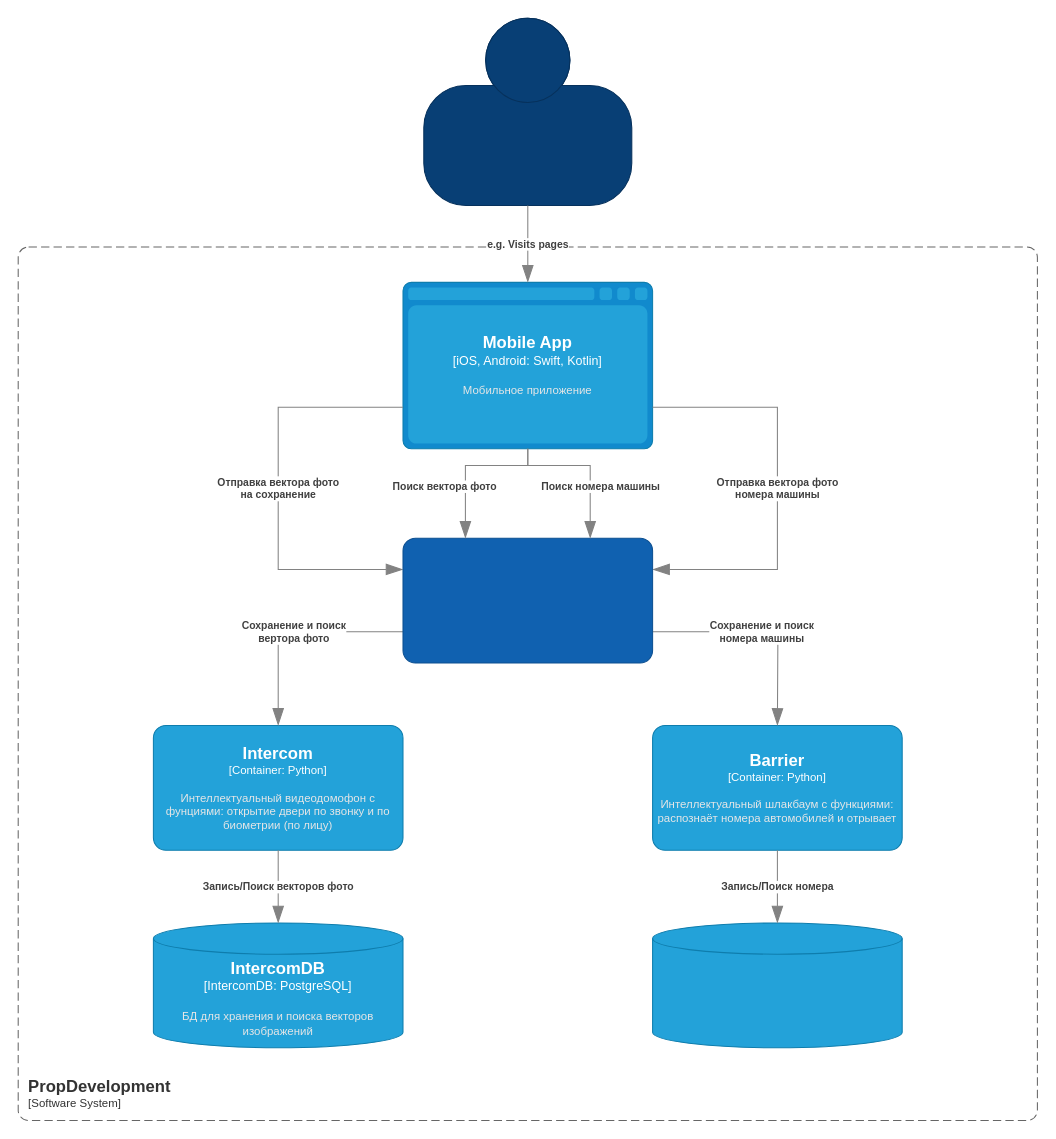
This 1056x1139 diagram has some shape labels left out. Here are the shapes that lost their labels. From the top down, the centre of each, then its label:
point (527, 111): Пользователь [Person] Пользователь приложения
point (527, 600): PropDevelopment [Software System] Core - система
point (777, 985): BarrierDB [BarrierDB: PostgreSQL] DB номеров авто
